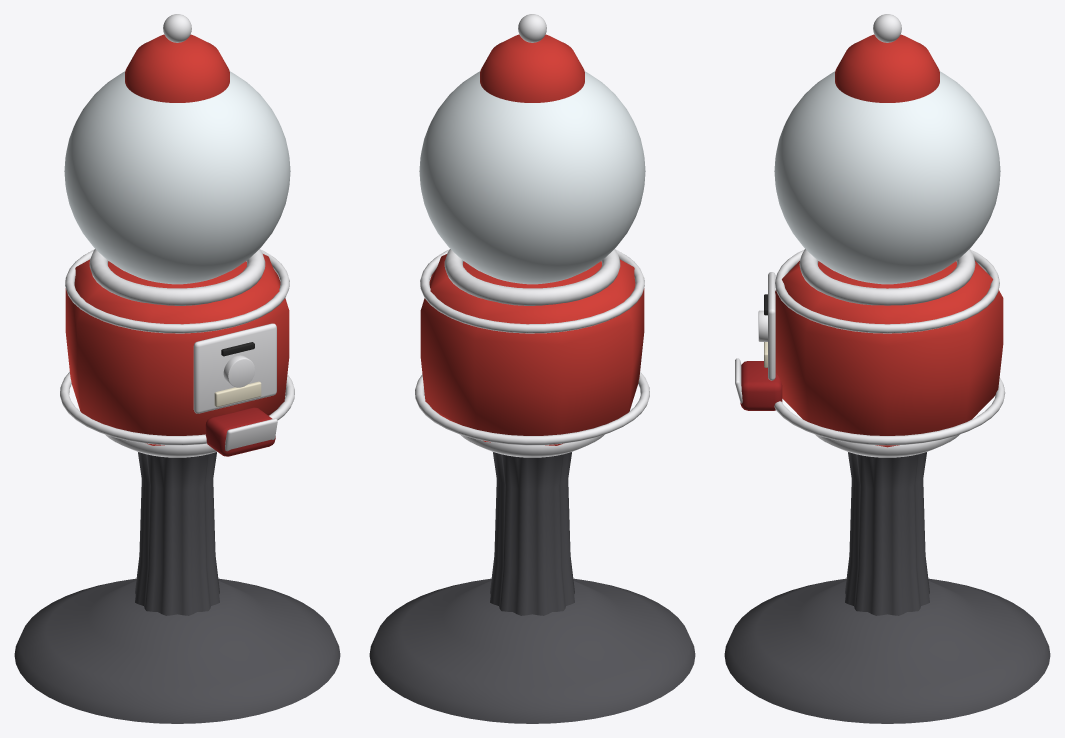
Rendered from gumball.glb.
3 views of the same model, side by side, from view 1: azimuth 30°, elevation 25°; view 2: azimuth 150°, elevation 25°; view 3: azimuth 270°, elevation 25° (orthographic).
Parts seen in each view (by area): view 1: globe, foot, body, column, cap, plate, seat, band_hi, band_lo, chute, collar, flap (+3 smaller); view 2: globe, foot, body, column, cap, seat, band_hi, band_lo, collar, knob; view 3: globe, foot, body, column, cap, seat, band_hi, band_lo, chute, collar, plate, knob.
Boxes of the visible parts, bbox=[...] form: globe: bbox=[64, 71, 290, 284]; foot: bbox=[14, 578, 340, 723]; body: bbox=[65, 254, 289, 445]; column: bbox=[135, 452, 219, 615]; cap: bbox=[125, 34, 229, 102]; plate: bbox=[193, 323, 276, 413]; seat: bbox=[89, 249, 265, 305]; band_hi: bbox=[65, 249, 289, 333]; band_lo: bbox=[60, 371, 294, 445]; chute: bbox=[205, 407, 275, 456]; collar: bbox=[105, 434, 216, 457]; flap: bbox=[225, 418, 277, 451]; globe: bbox=[419, 71, 645, 284]; foot: bbox=[369, 578, 695, 723]; body: bbox=[420, 254, 644, 445]; column: bbox=[490, 452, 574, 615]; cap: bbox=[480, 34, 584, 102]; seat: bbox=[444, 249, 620, 305]; band_hi: bbox=[420, 249, 644, 333]; band_lo: bbox=[415, 371, 649, 445]; collar: bbox=[460, 434, 604, 457]; knob: bbox=[518, 14, 546, 42]; globe: bbox=[774, 71, 1000, 284]; foot: bbox=[724, 578, 1050, 723]; body: bbox=[775, 261, 1003, 447]; column: bbox=[845, 452, 929, 615]; cap: bbox=[835, 34, 939, 102]; seat: bbox=[799, 249, 975, 305]; band_hi: bbox=[775, 250, 999, 333]; band_lo: bbox=[774, 377, 1005, 445]; chute: bbox=[740, 361, 782, 410]; collar: bbox=[815, 434, 959, 457]; plate: bbox=[768, 272, 775, 380]; knob: bbox=[873, 14, 901, 42].
Bounding box in the file's own units: 1.24 × 2.69 × 1.24.
